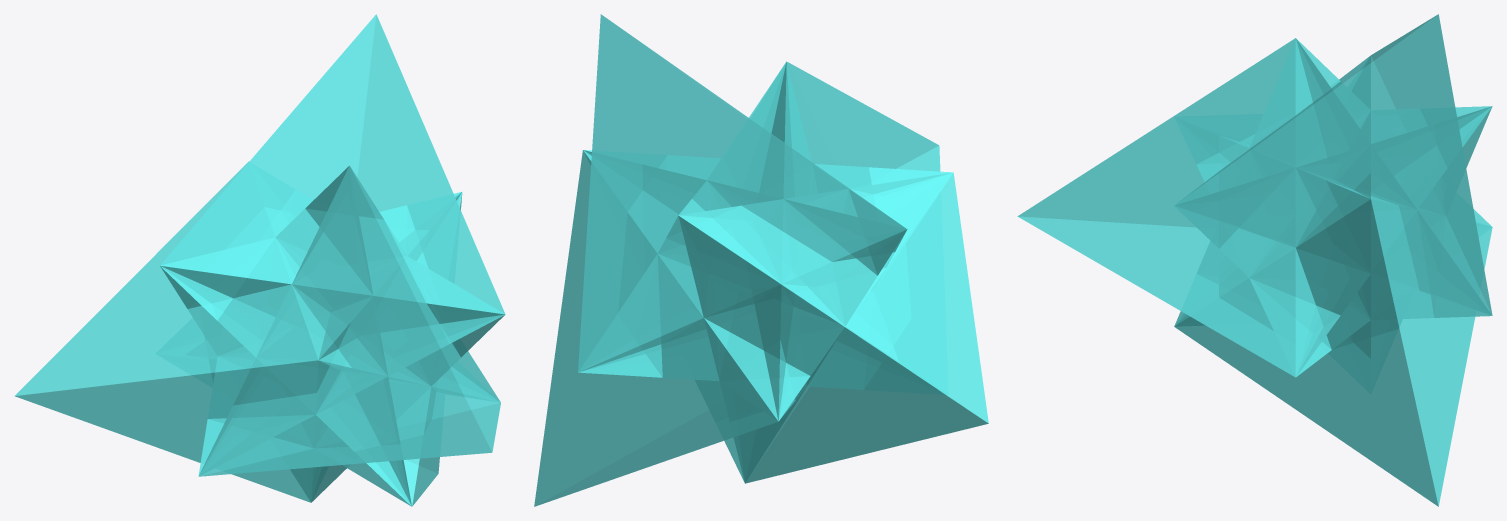
The model's file is 18_Tetraugmented_Gike.obj.
3 views of the same model, side by side, from view 1: azimuth 30°, elevation 25°; view 2: azimuth 150°, elevation 25°; view 3: azimuth 270°, elevation 25° (orthographic). The views are drawn at different scales.
Bounding box in the file's own units: 1.4 × 1.5 × 1.39.
